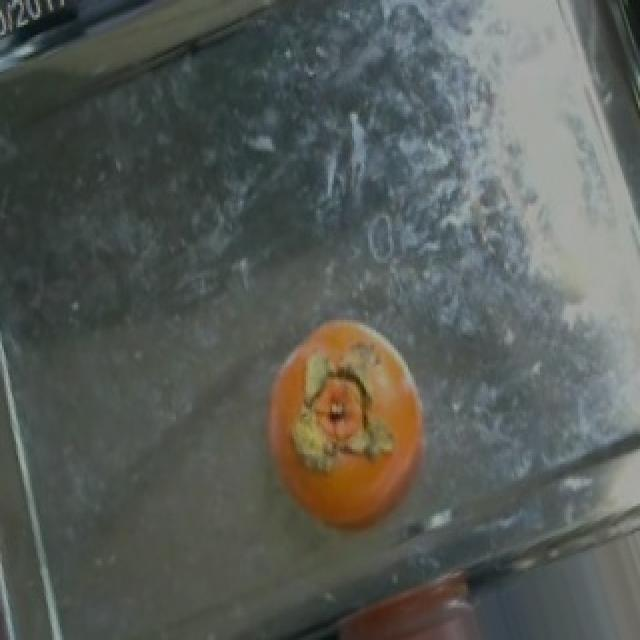Fruit: (248, 303, 450, 553), (316, 553, 508, 638)
